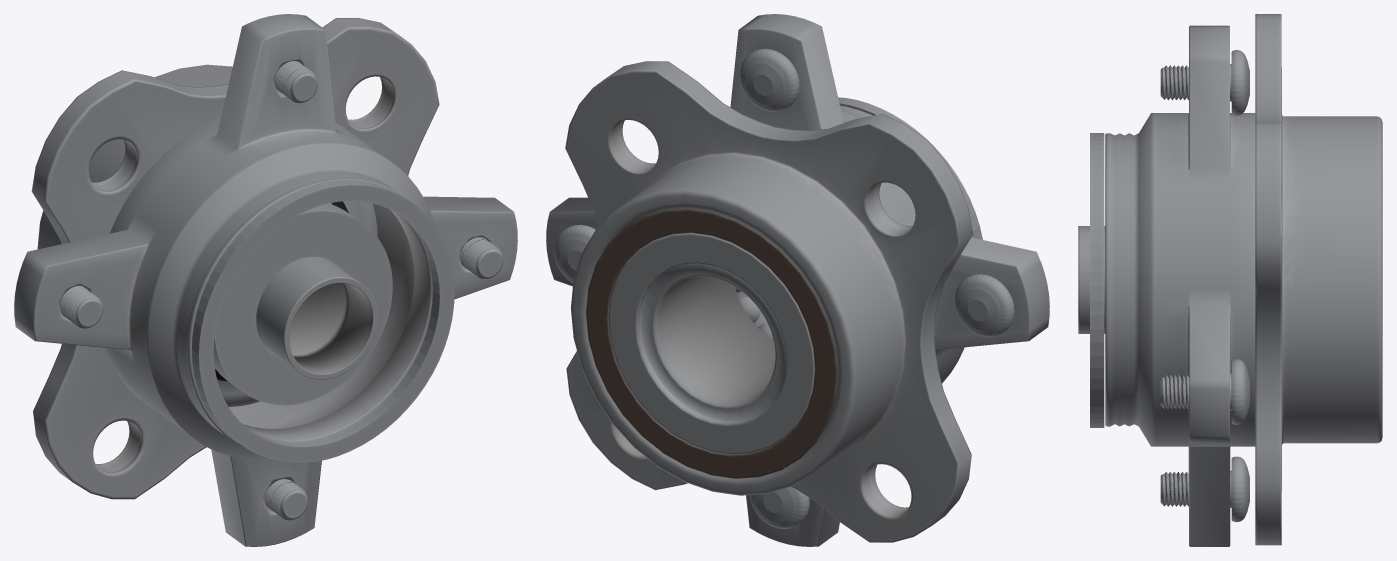
Rendered from hub_3.fbx.
The picture shows the model from 3 angles, left to right: view 1: azimuth 30°, elevation 25°; view 2: azimuth 150°, elevation 25°; view 3: azimuth 270°, elevation 25°; orthographic projection.
Parts seen in each view (by area): view 1: Cylinder.005, Cylinder.001, Cylinder.008, Cylinder.007, Bolt.002, Bolt.004, Bolt.001, Bolt.003; view 2: Cylinder.001, Cylinder.005, Bolt.002, Bolt.004, Bolt.003, Bolt.001, Cylinder.008; view 3: Cylinder.005, Cylinder.001, Cylinder.008, Bolt.001, Bolt.004, Bolt.003.
Boxes of the visible parts, x1,y1,x2,y2 form: Cylinder.005: (14, 14, 517, 546); Cylinder.001: (31, 18, 439, 499); Cylinder.008: (192, 180, 454, 462); Cylinder.007: (213, 203, 392, 405); Bolt.002: (60, 285, 103, 328); Bolt.004: (274, 61, 317, 103); Bolt.001: (460, 237, 503, 279); Bolt.003: (265, 479, 307, 520); Cylinder.001: (565, 61, 972, 542); Cylinder.005: (546, 14, 1049, 546); Bolt.002: (954, 274, 1014, 337); Bolt.004: (739, 48, 799, 111); Bolt.003: (750, 486, 809, 528); Bolt.001: (554, 224, 595, 282); Cylinder.008: (838, 97, 982, 239); Cylinder.005: (1105, 25, 1255, 546); Cylinder.001: (1078, 14, 1382, 545); Cylinder.008: (1090, 133, 1104, 427); Bolt.001: (1160, 359, 1249, 424); Bolt.004: (1160, 50, 1249, 115); Bolt.003: (1160, 456, 1249, 522).
Size of the model in its own units: 267 by 269 by 146.
